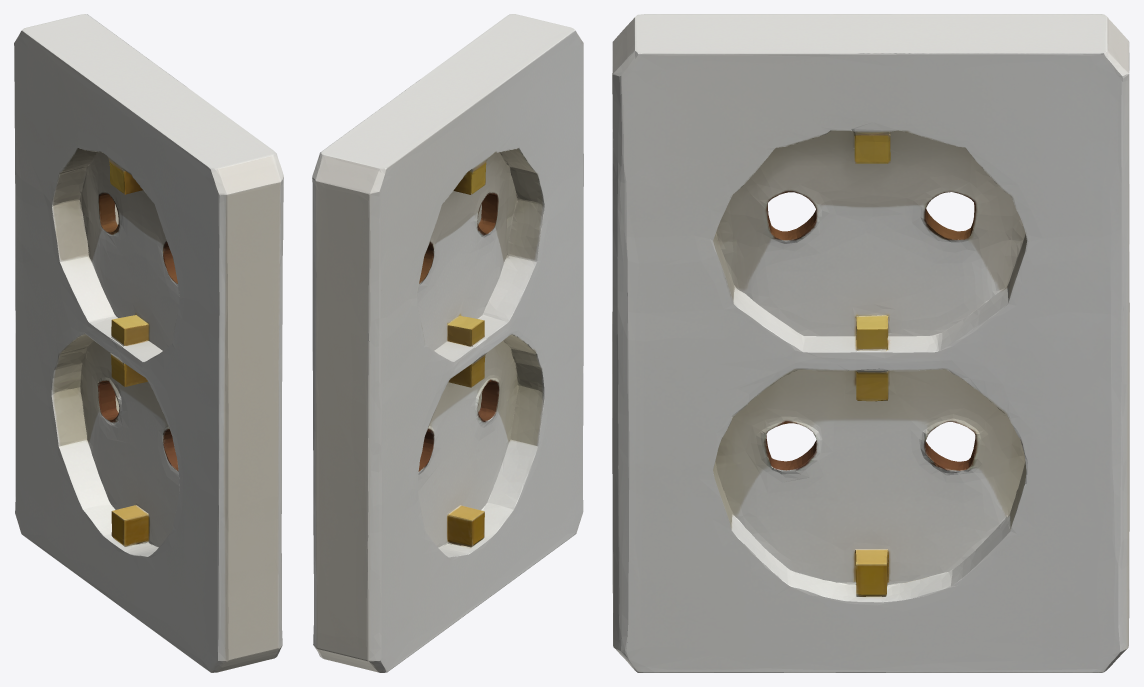
Rendered from Wallsocket.fbx.
The picture shows the model from 3 angles, left to right: view 1: azimuth 30°, elevation 25°; view 2: azimuth 150°, elevation 25°; view 3: azimuth 270°, elevation 25°; orthographic projection. The views are drawn at different scales.
Parts seen in each view (by area): view 1: world; view 2: world; view 3: world.
Part boxes in pixels (x1,y1,x2,y2): world: (14,14,283,672); world: (312,14,583,672); world: (612,14,1129,672).
Bounding box in the file's own units: 14.07 × 100 × 75.75.
Materials: 1 (1 with a texture image).
